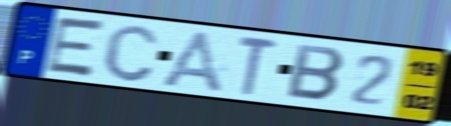2: (348, 53, 396, 108)
A: (156, 29, 226, 96)
B: (284, 42, 348, 104)
C: (100, 22, 161, 84)
E: (42, 14, 110, 79)
T: (236, 33, 281, 98)
